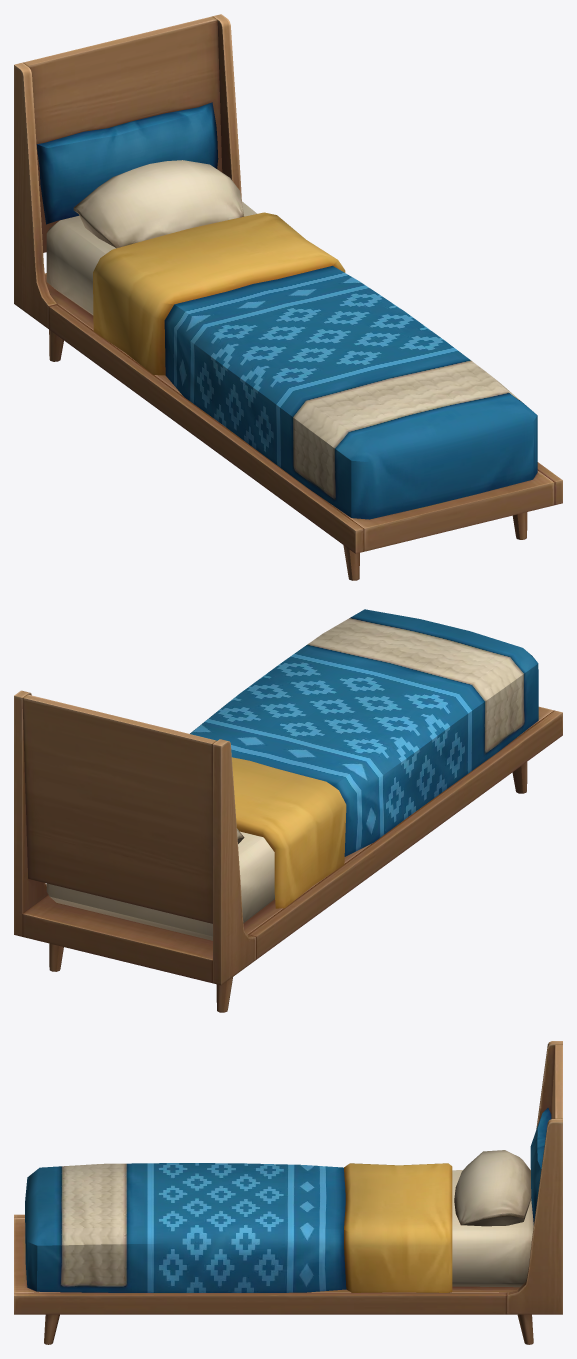
File: tiny_space_saving_single.glb
The picture shows the model from 3 angles, top to bottom: view 1: azimuth 30°, elevation 25°; view 2: azimuth 150°, elevation 25°; view 3: azimuth 270°, elevation 25°; orthographic projection. The views are drawn at different scales.
Visible parts, largest first — view 1: Object_28; view 2: Object_28; view 3: Object_28.
Boxes of the visible parts, box(x1,y1,x2,y2) form: Object_28: box(14, 14, 562, 580); Object_28: box(14, 609, 562, 1012); Object_28: box(14, 1041, 562, 1344).
Size of the model in its own units: 1.24 by 1.62 by 3.54.
Materials: 1 (1 with a texture image).
